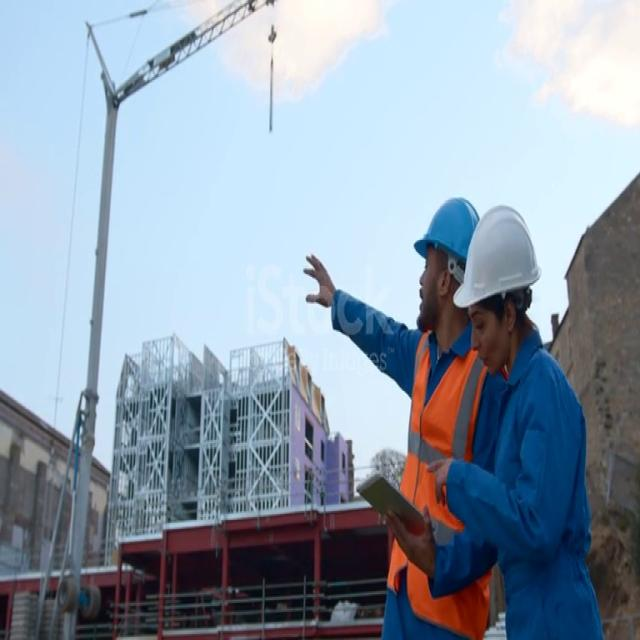capacete: (448, 189, 544, 324), (412, 167, 488, 280)
